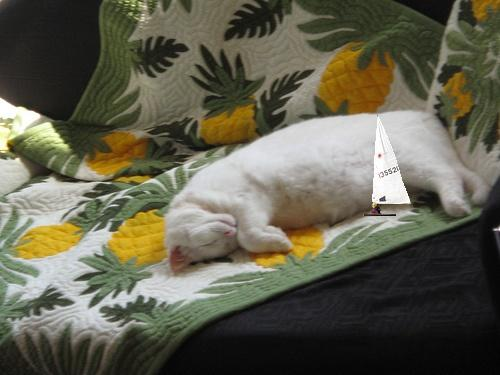tampered: (364, 116, 411, 216)
